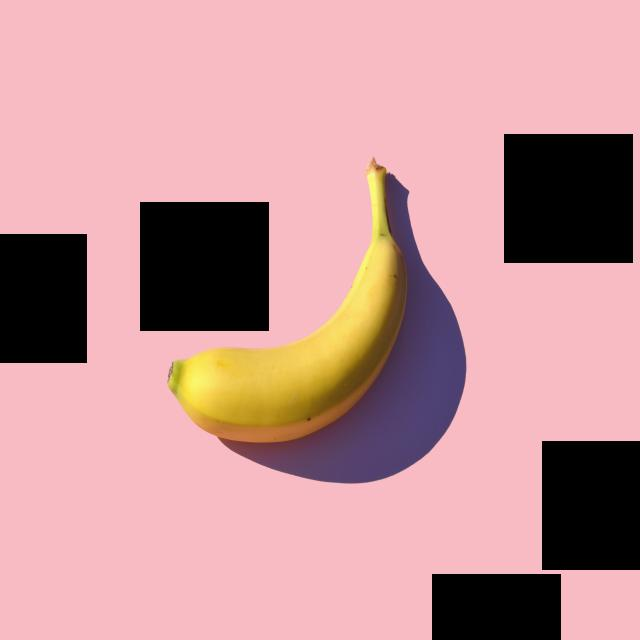banana: (168, 157, 407, 443)
